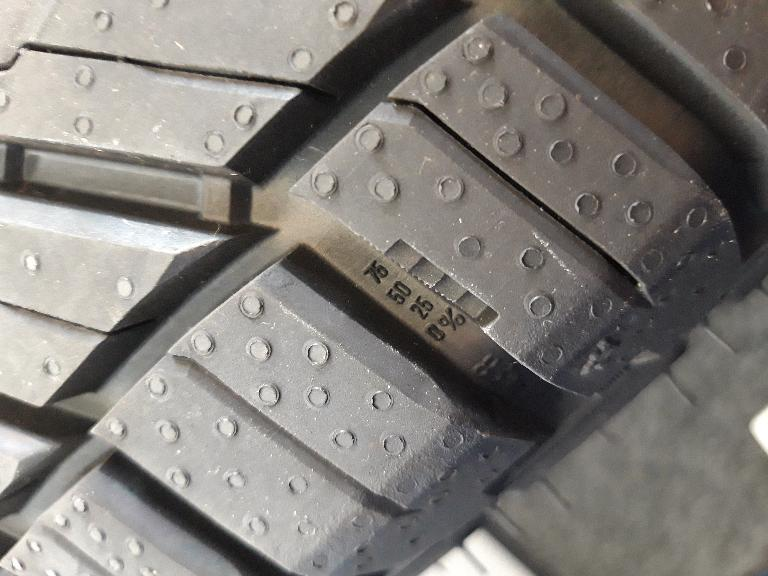temoin:100: (356, 226, 503, 335)
